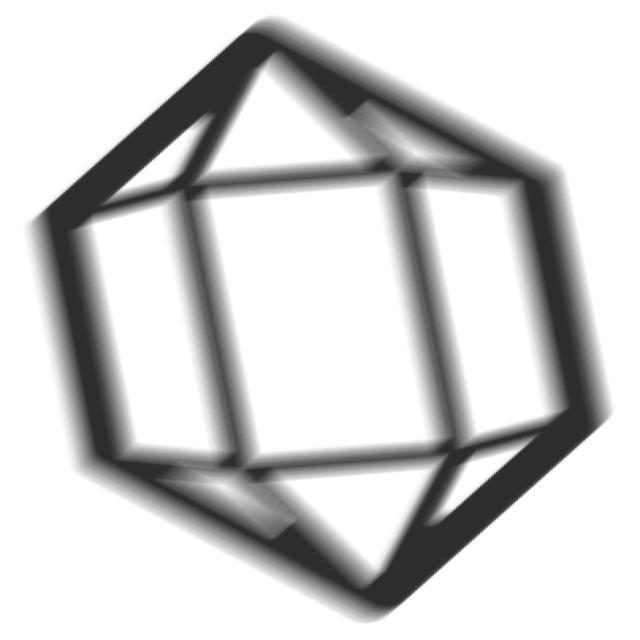crystal: (26, 10, 630, 633)
